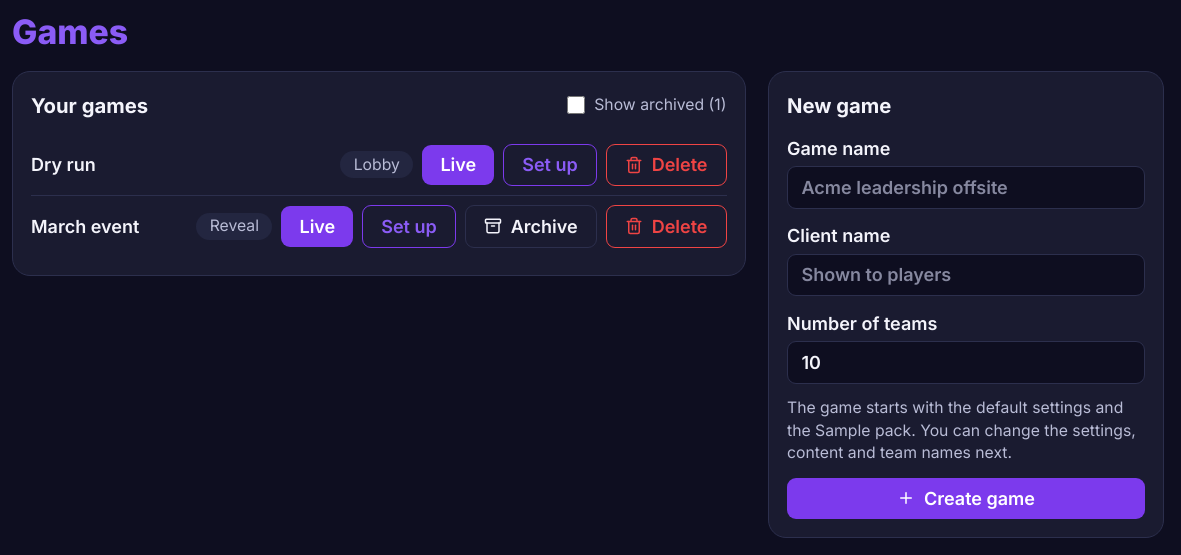
games list › offers Archive for finished games, Delete for unplayed and finished ones, and hides archived games
expect the button "Delete" in the row of "Lobby" is shown: met, box 606,144 -> 726,186
expect the button "Archive" is shown: met, box 465,205 -> 597,248
Click the checkbox labelled "Show archived (1)".
click(576, 105)  # box 567,96 -> 585,114
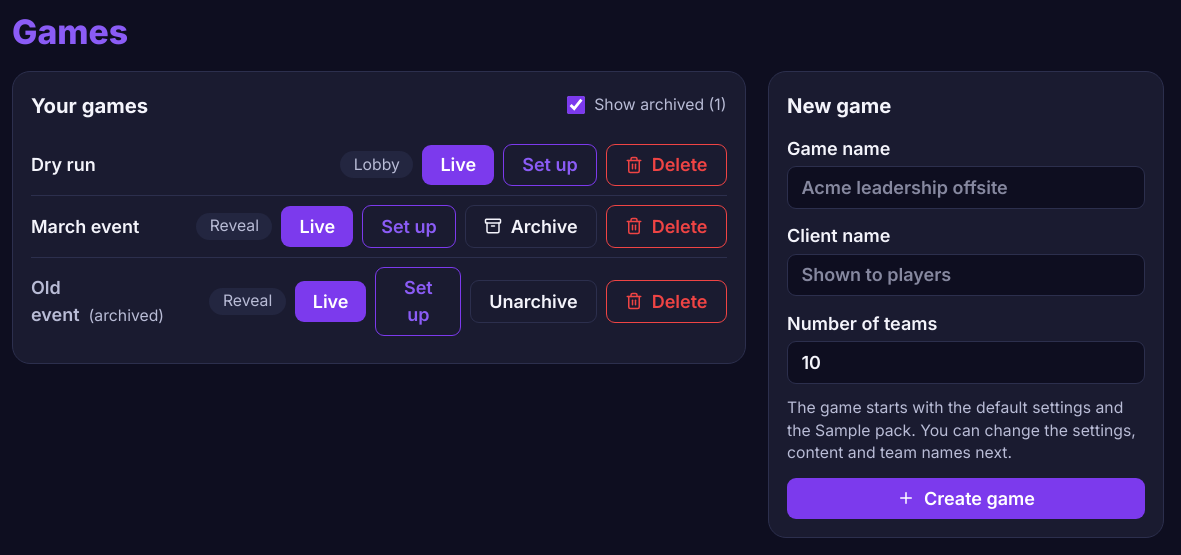
expect the text "Old event" is shown: met, box 31,277 -> 80,325
